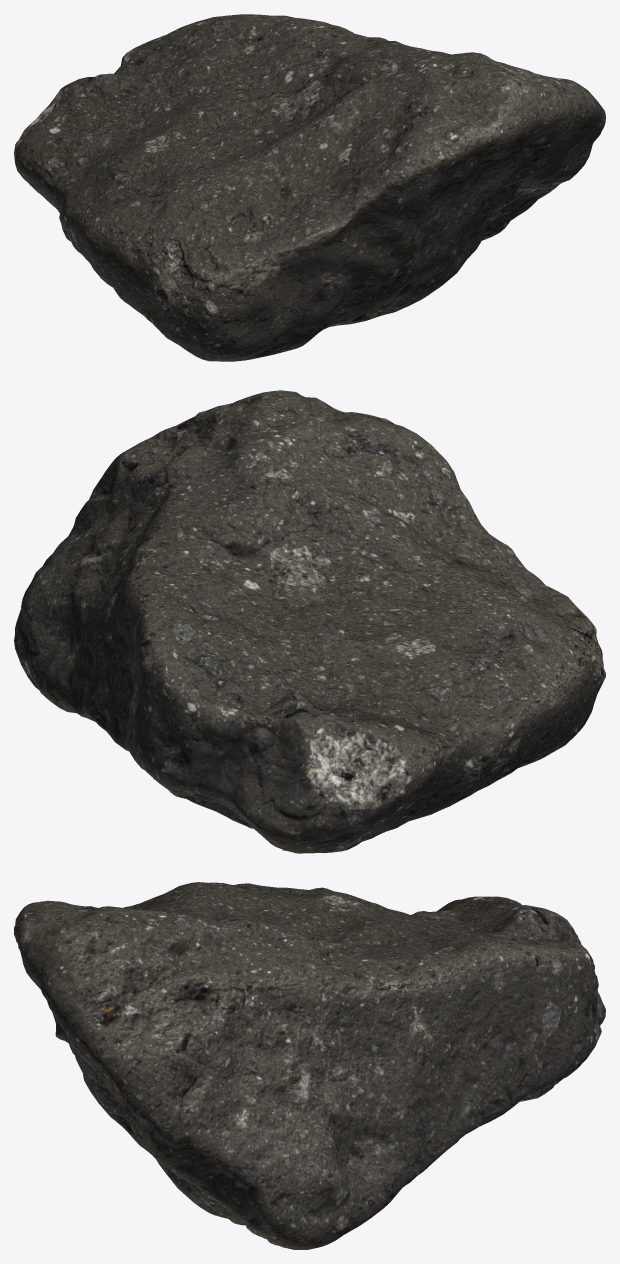
File: apollo_10021_79.fbx
The picture shows the model from 3 angles, top to bottom: view 1: azimuth 30°, elevation 25°; view 2: azimuth 150°, elevation 25°; view 3: azimuth 270°, elevation 25°; orthographic projection. The views are drawn at different scales.
Visible parts, largest first — view 1: apollo_10021_79; view 2: apollo_10021_79; view 3: apollo_10021_79.
Part boxes in pixels (box(x1,y1,x2,y2)): apollo_10021_79: box(14, 14, 605, 361); apollo_10021_79: box(14, 390, 605, 853); apollo_10021_79: box(14, 882, 605, 1249).
Bounding box in the file's own units: 0.2601 × 0.1421 × 0.2369.
Materials: 1 (1 with a texture image).
